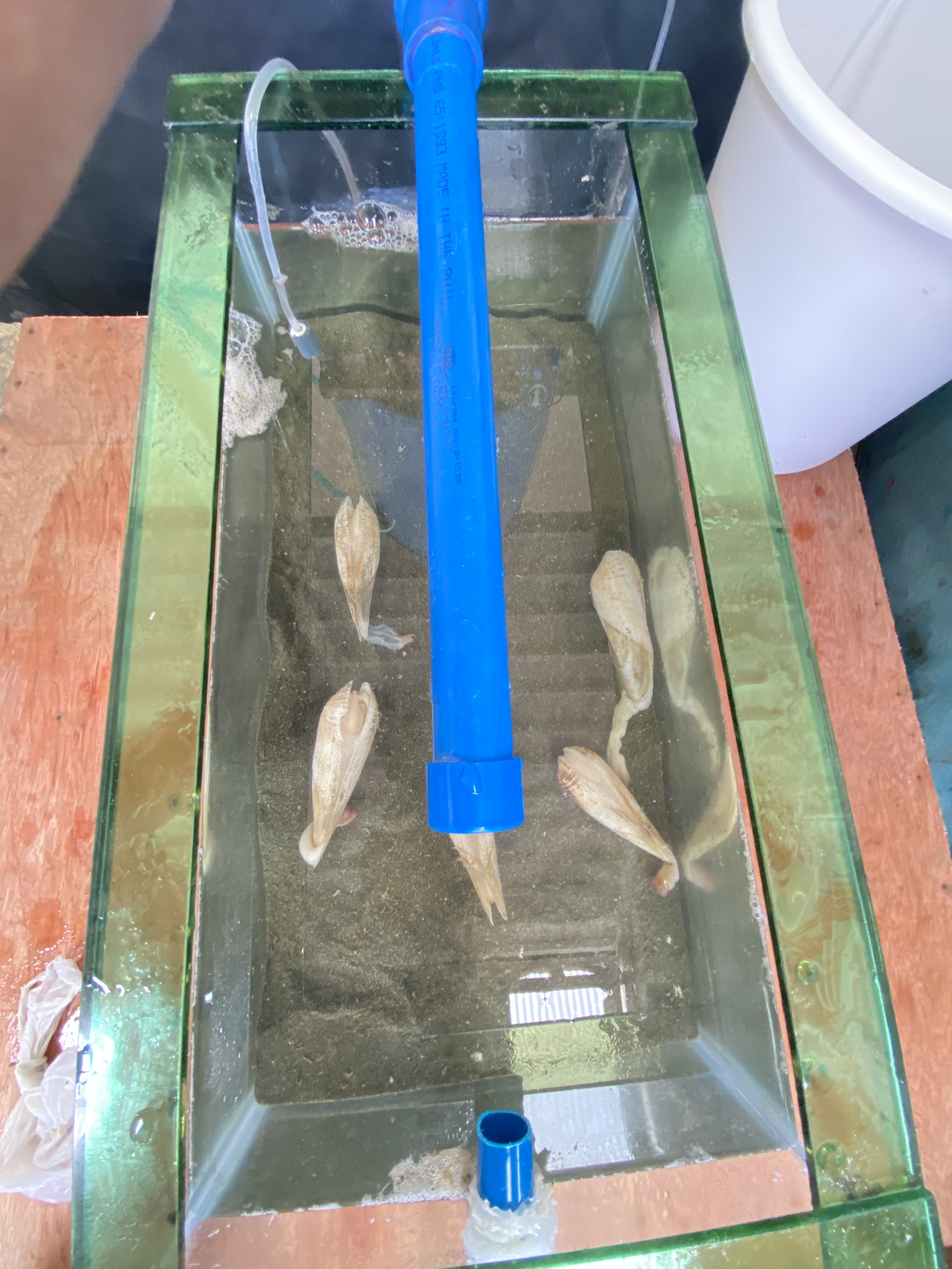At risk: (558, 747, 678, 895), (590, 550, 653, 785), (299, 683, 379, 866), (334, 496, 413, 650), (450, 833, 507, 923)
